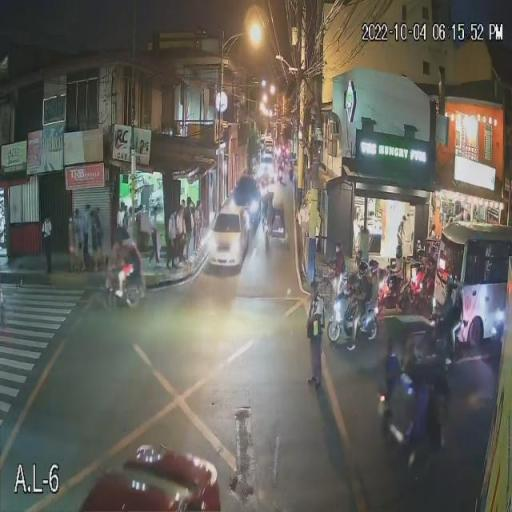helmet: (356, 263, 368, 279), (370, 260, 379, 276)
motorcycle: (327, 294, 379, 350)
rider: (355, 267, 368, 312), (370, 262, 379, 310)
